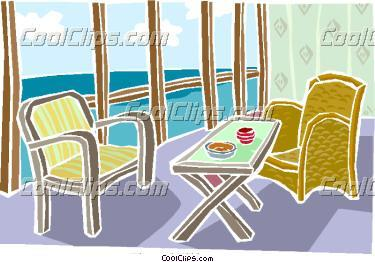chair: (14, 89, 157, 240), (248, 69, 369, 206)
diningtable: (169, 114, 285, 244)
